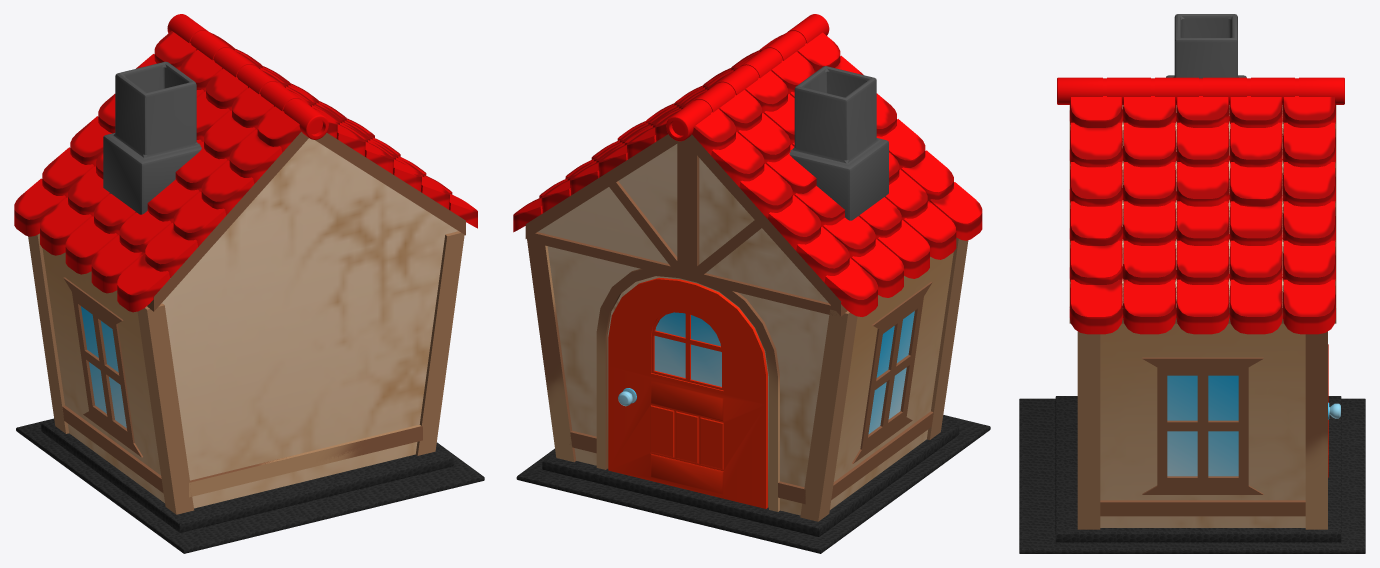
File: house1.fbx
3 renders of one model, left to right at view 1: azimuth 30°, elevation 25°; view 2: azimuth 150°, elevation 25°; view 3: azimuth 270°, elevation 25°, orthographic. The views are drawn at different scales.
Visible parts, largest first — view 1: Cube; view 2: Cube, Plane; view 3: Cube.
Boxes of the visible parts, x1=… form: Cube: x1=14, y1=14, x2=484, y2=553; Cube: x1=513, y1=14, x2=990, y2=553; Plane: x1=608, y1=277, x2=767, y2=508; Cube: x1=1019, y1=14, x2=1365, y2=553.
Bounding box in the file's own units: 208 × 226 × 174.
8 materials, 5 textured.
